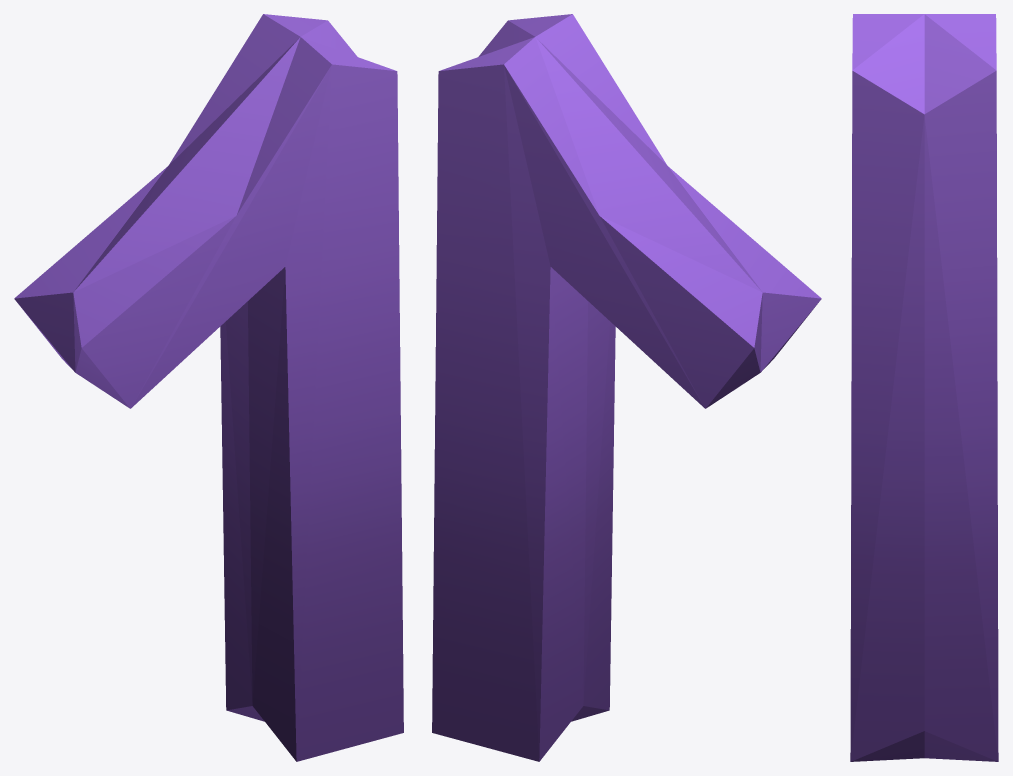
3 renders of one model, left to right at view 1: azimuth 30°, elevation 25°; view 2: azimuth 150°, elevation 25°; view 3: azimuth 270°, elevation 25°, orthographic. The views are drawn at different scales.
Parts seen in each view (by area): view 1: One; view 2: One; view 3: One.
Boxes of the visible parts, x1,y1,x2,y2 form: One: (14, 14, 403, 761); One: (432, 14, 821, 761); One: (850, 14, 998, 761).
Bounding box in the file's own units: 0.2428 × 0.5003 × 0.0914.
